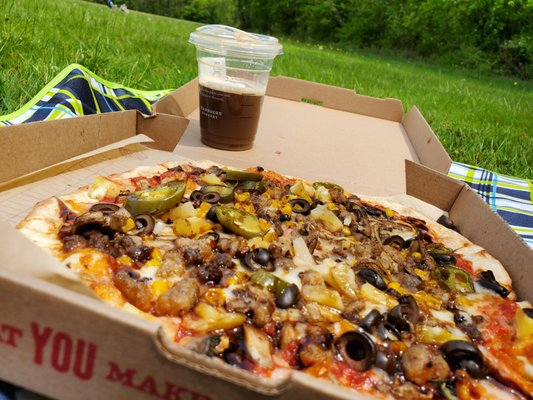pizza: (189, 23, 282, 153)
